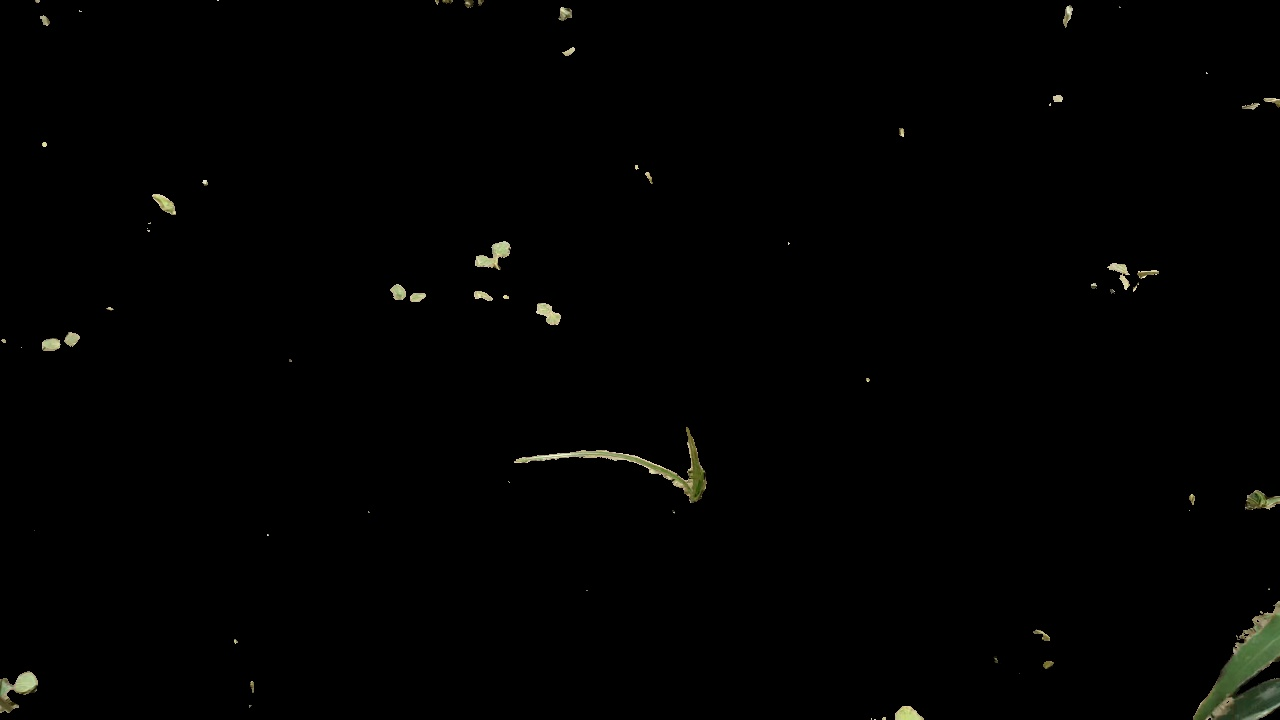crop: (1173, 580, 1280, 720)
weed: (508, 419, 722, 498), (1104, 252, 1163, 295), (374, 272, 432, 308), (1, 671, 41, 719), (472, 282, 513, 313), (474, 240, 518, 268), (533, 296, 571, 328), (1240, 487, 1278, 519), (33, 333, 96, 351), (149, 190, 179, 218)
